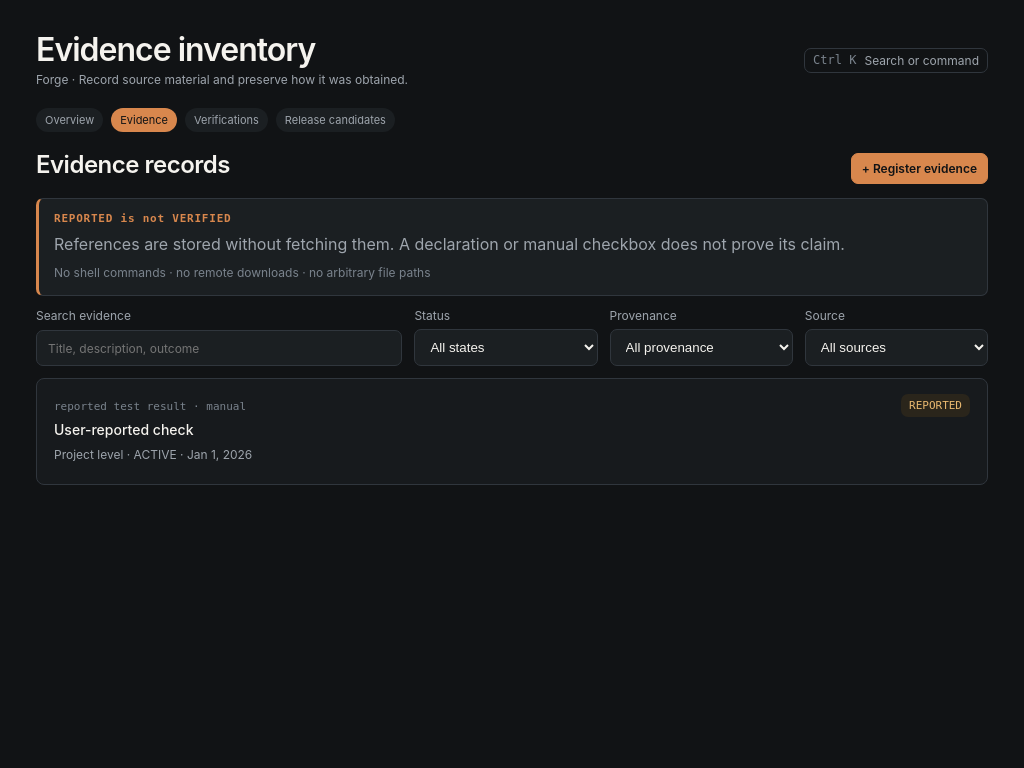
Delivery feature routes and provenance › interprets the existing delivery wildcard and keeps reported evidence reported
Expected: the heading "Evidence inventory" is shown, [36,30,315,69]
What coordinates should you click on to do the following:
click the link "User-reported check"
I would click on:
 (120, 407)
Its box is [36,378,988,485].
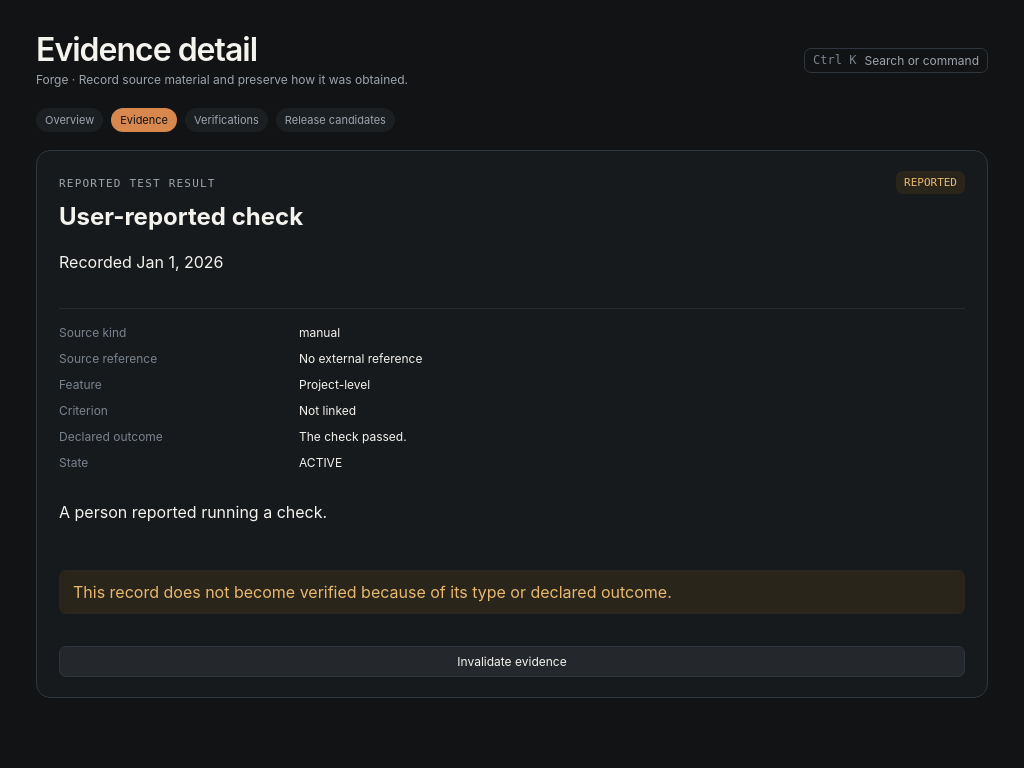
Expected: the text "REPORTED" is shown, [896,171,965,194]
Now the heading "User-reported check" is shown, box [59,202,303,232]
Now the text "This record does not become verified because of its type or declared outcome." is shown, box [59,570,965,614]
